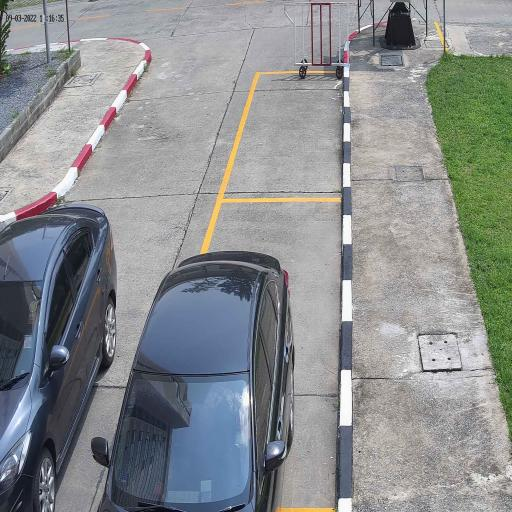car: (98, 248, 296, 512), (0, 201, 118, 512)
